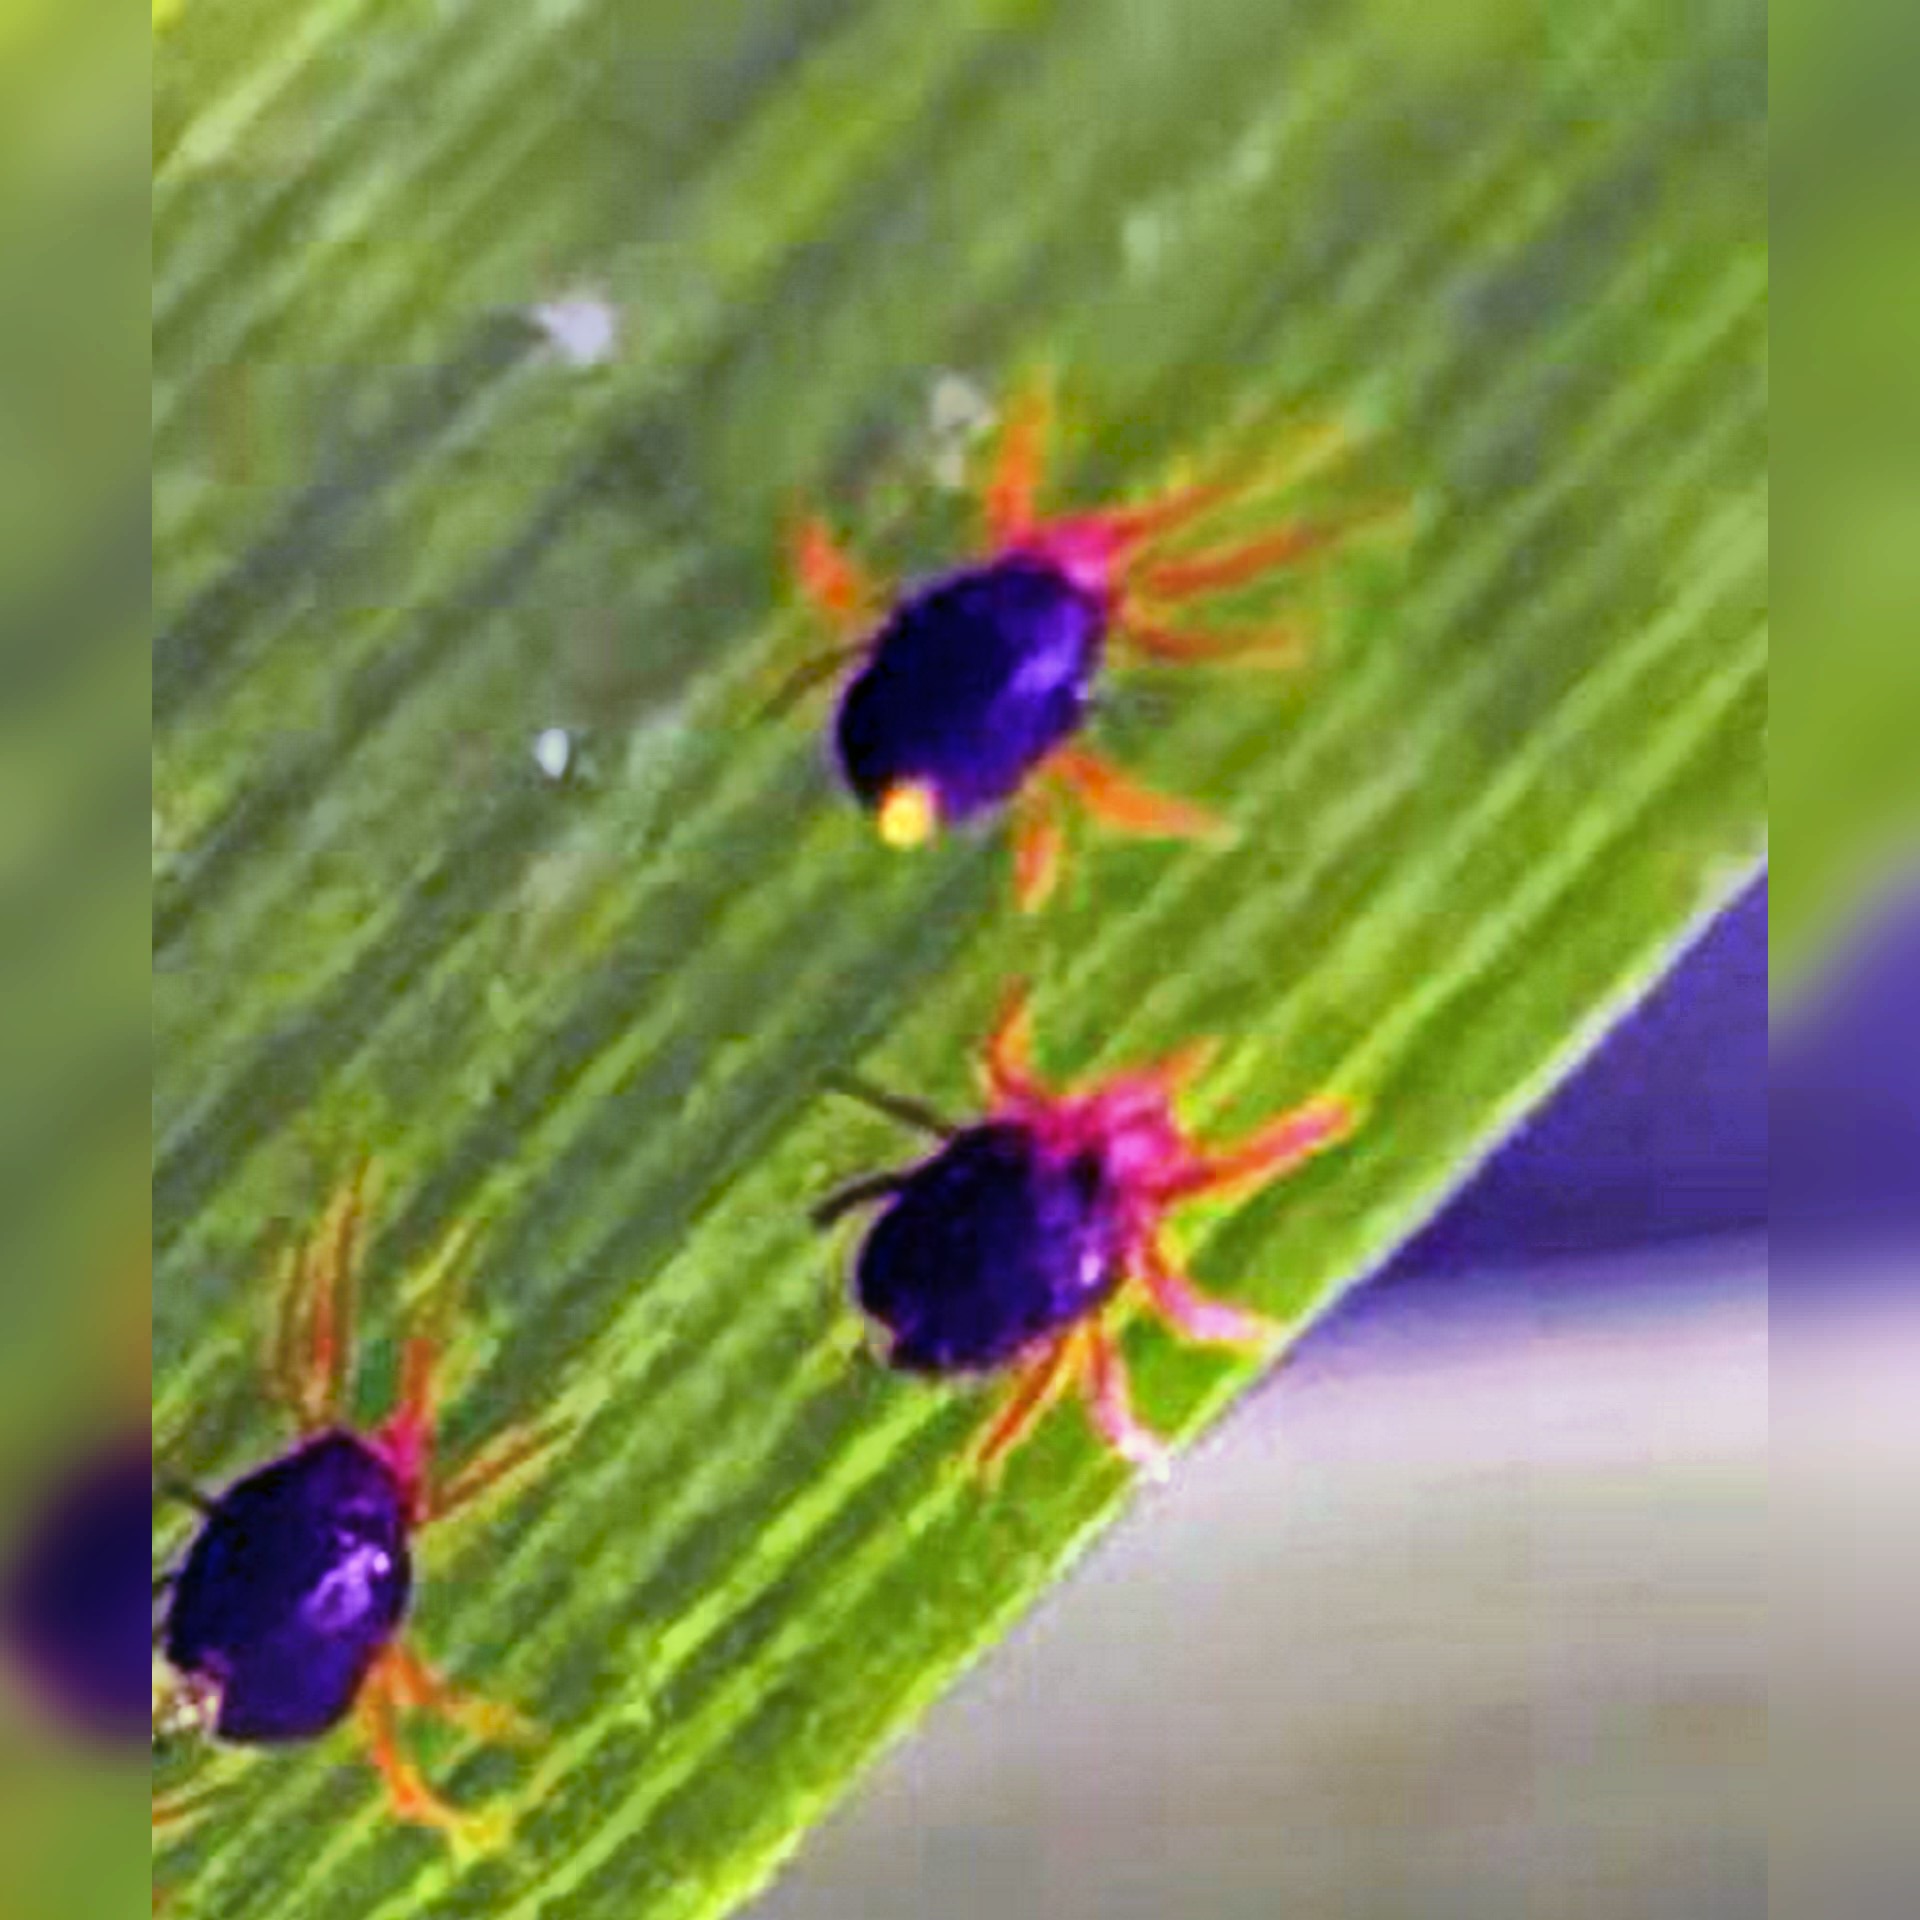Wheat Red Spider: (767, 942, 1385, 1524)
